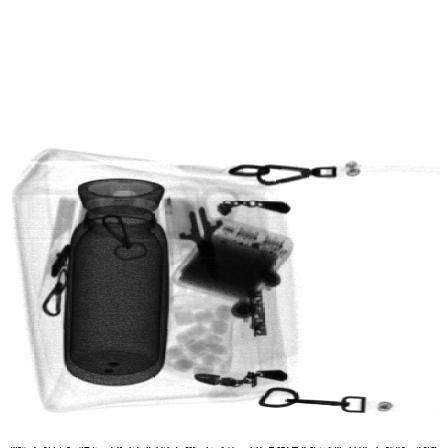Powerbank: (171, 219, 293, 307)
Scissors: (146, 190, 238, 285)
